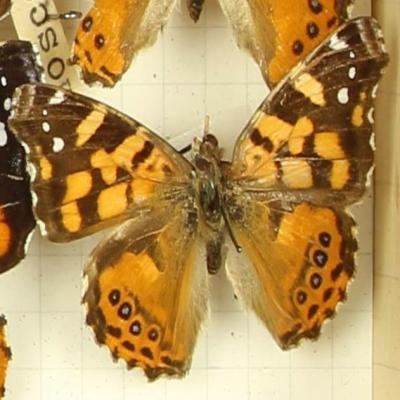natural_science_collection: (6, 17, 391, 382)
